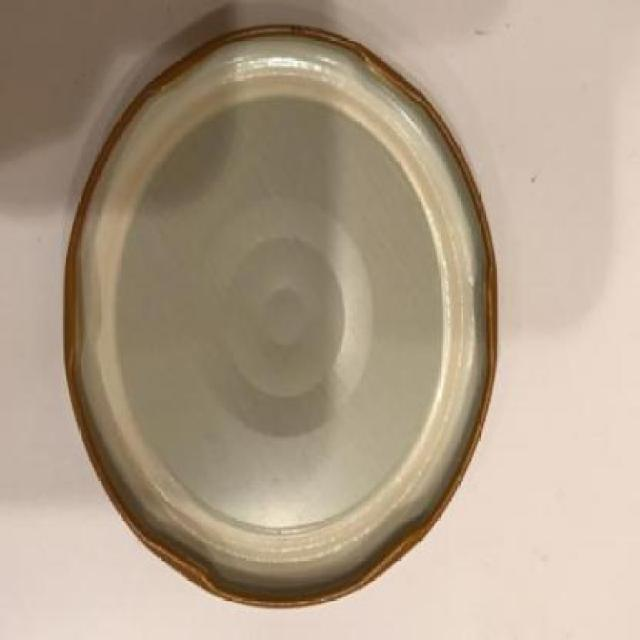METAL: (62, 25, 500, 610)
